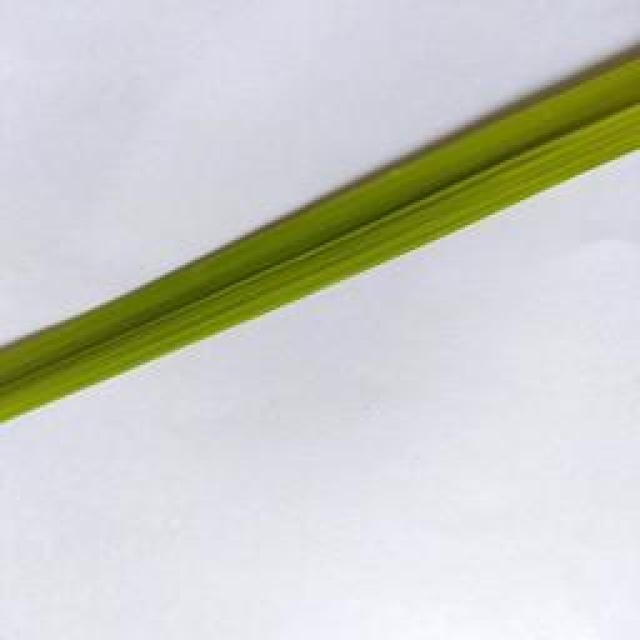Healthy-Plant: (360, 101, 520, 283), (226, 168, 383, 341), (510, 43, 640, 216), (0, 283, 138, 433), (120, 237, 244, 379)
